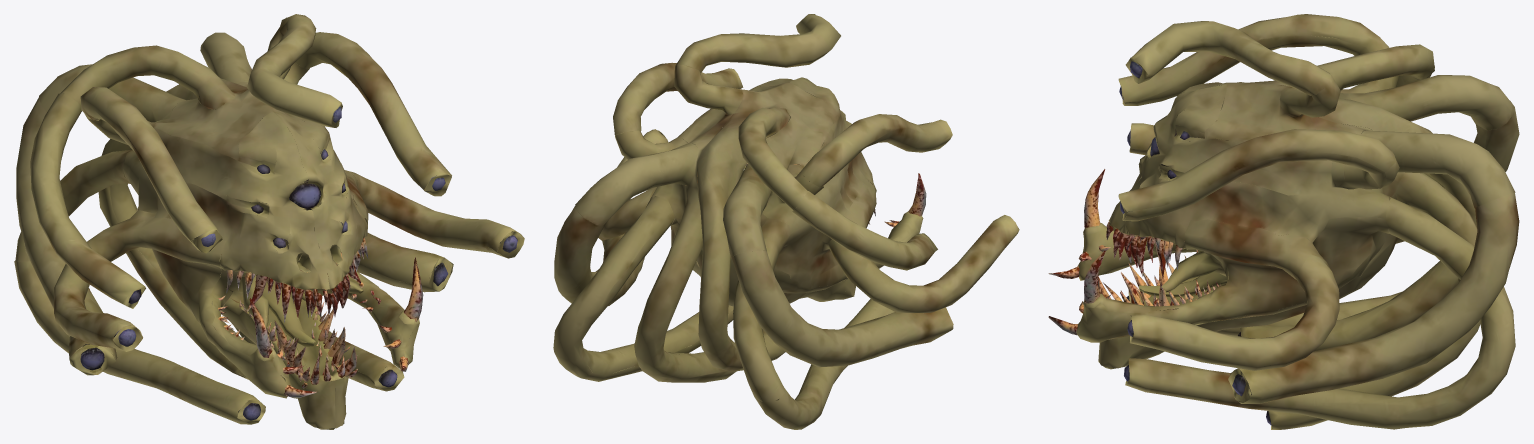
Rendered from orb.glb.
3 views of the same model, side by side, from view 1: azimuth 30°, elevation 25°; view 2: azimuth 150°, elevation 25°; view 3: azimuth 270°, elevation 25° (orthographic). The views are drawn at different scales.
Parts seen in each view (by area): view 1: Body, Teeth, Yeys; view 2: Body, Teeth; view 3: Body, Teeth, Yeys.
Part boxes in pixels (bbox=[...]): Body: bbox=[14, 14, 524, 429]; Teeth: bbox=[218, 237, 423, 397]; Yeys: bbox=[80, 106, 517, 420]; Body: bbox=[553, 14, 1019, 429]; Teeth: bbox=[746, 163, 926, 227]; Body: bbox=[1076, 14, 1519, 429]; Teeth: bbox=[1048, 169, 1220, 335]; Yeys: bbox=[1119, 61, 1271, 425].
Size of the model in its own units: 0.7995 by 0.6851 by 0.7736.
Materials: 3 (3 with a texture image).
